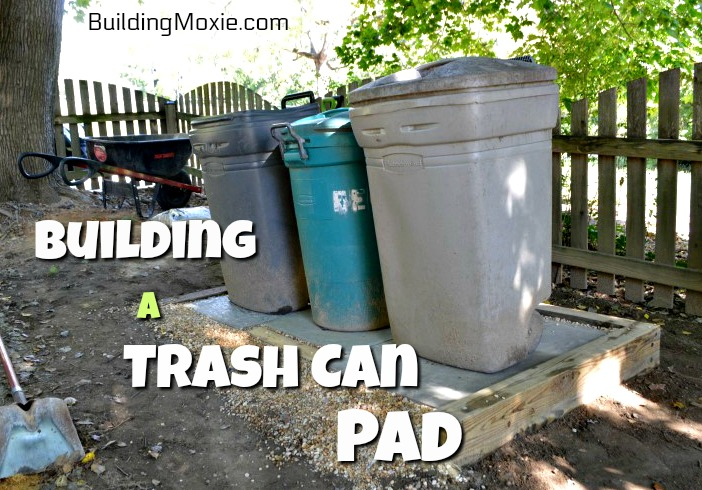TrashBin: (339, 56, 568, 368), (262, 99, 405, 352), (169, 95, 314, 330)
